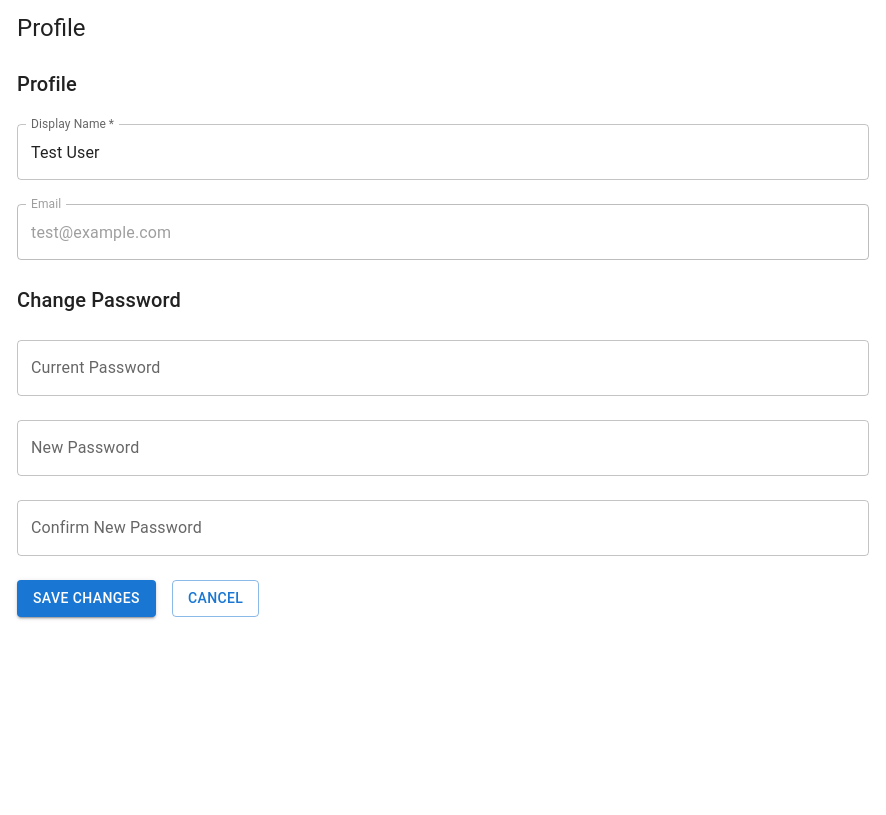
ProfilePage › Form Submission › should handle password change submission
This screenshot has width=886, height=815.
Type "oldpassword123" into the password field labelled "Current Password" at (443, 368), box [17,340,869,396]
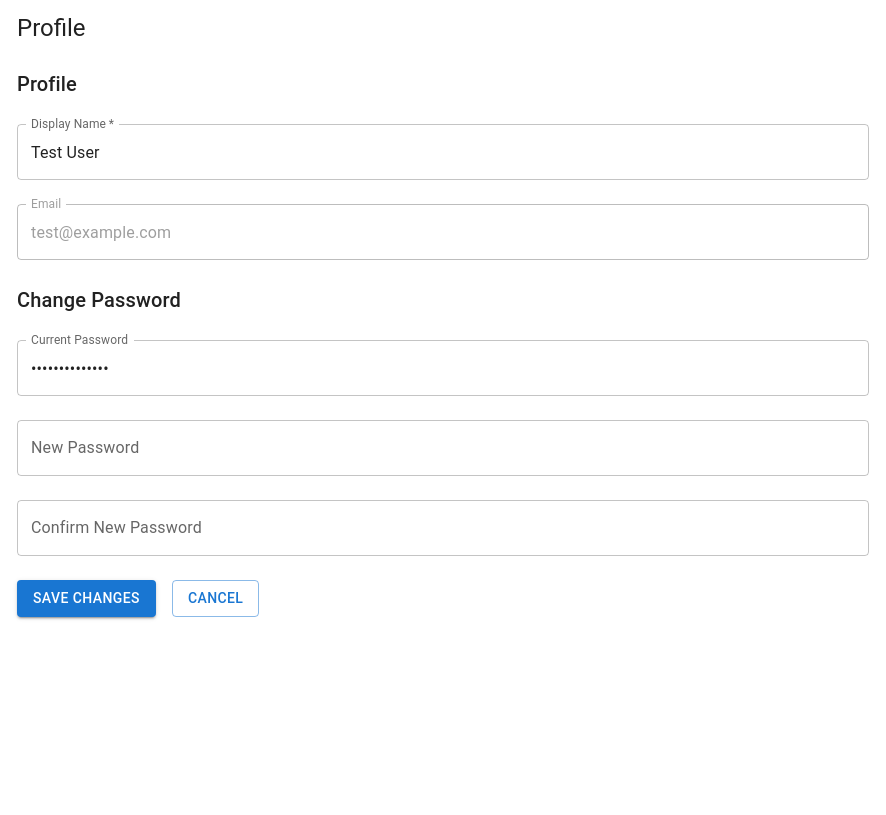
Type "newpassword123" into the password field labelled "New Password" at (443, 448), box [17,420,869,476]
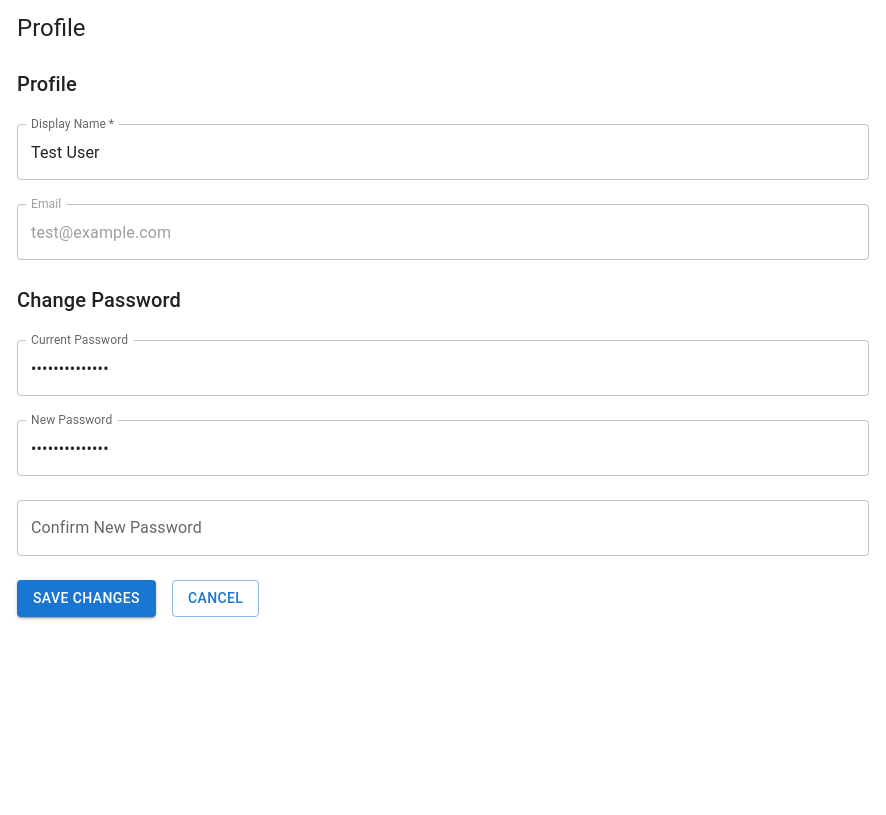
Type "newpassword123" into the password field labelled "Confirm New Password" at (443, 528), box [17,500,869,556]
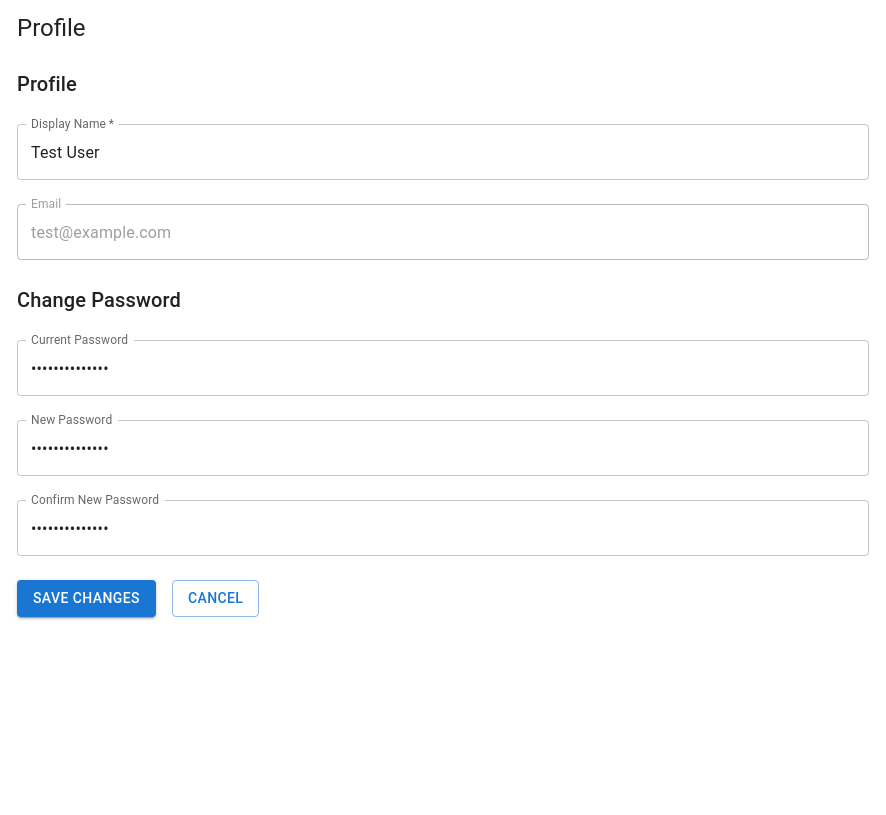
Click the button "Save Changes" at (86, 598), box [17,580,156,616]
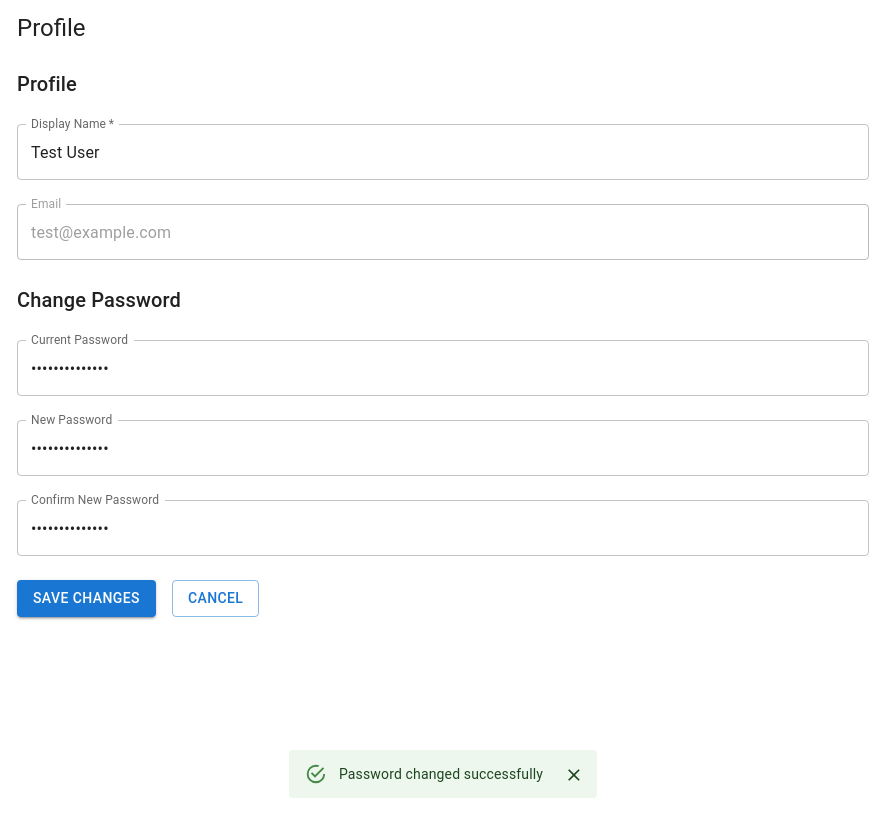
Result: the text "Password changed successfully" is shown at [339,766,543,782]
